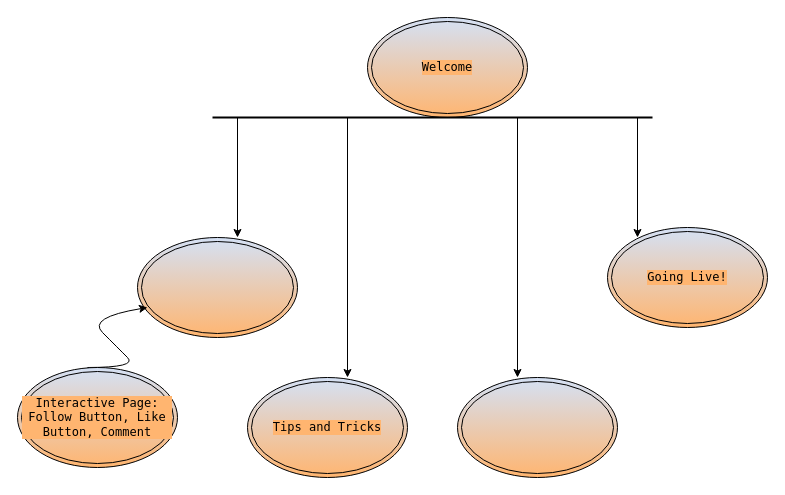
Some shapes in this 785 by 495 pixel diagram are drawn without their labels. The shapes that lost their labels are listed below. From the top down, each one's centre as x and y in pixels, then its label:
At pixel 217 287: "Sample Instagram Page".
At pixel 537 427: "Statistics: Graphs and Charts".
